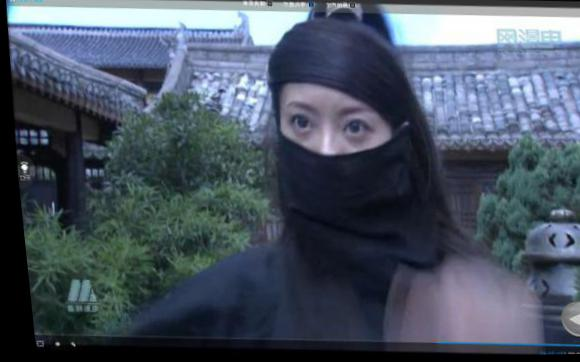WRONG: (266, 92, 398, 226)
